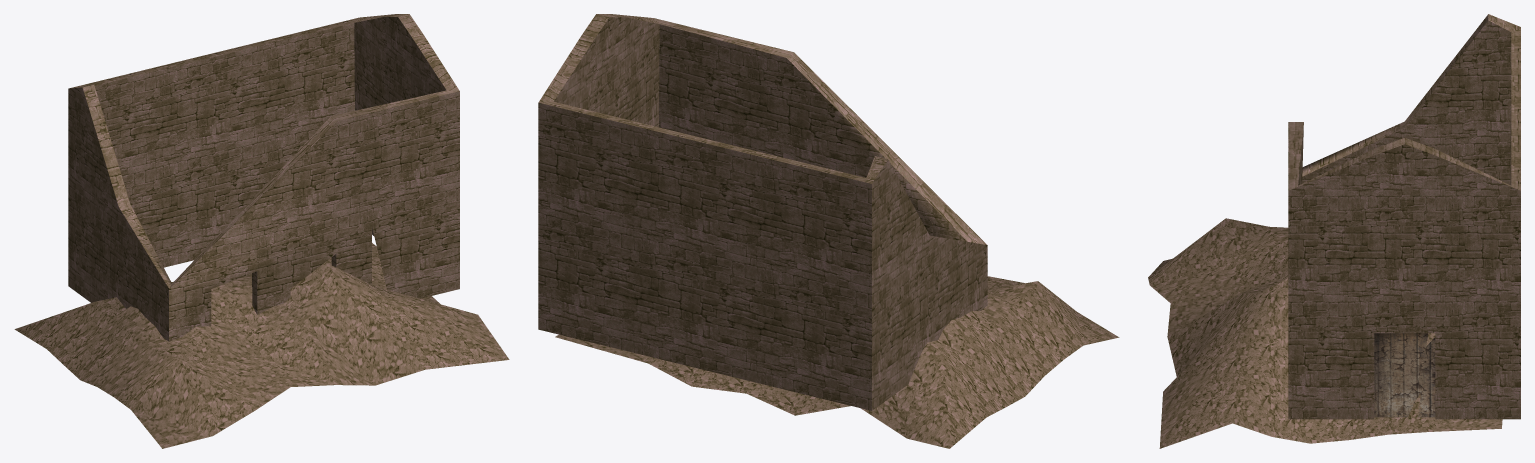
Rendered from old_house1.FBX.
3 renders of one model, left to right at view 1: azimuth 30°, elevation 25°; view 2: azimuth 150°, elevation 25°; view 3: azimuth 270°, elevation 25°, orthographic. The views are drawn at different scales.
Parts seen in each view (by area): view 1: Plane01, Plane02; view 2: Plane01, Plane02; view 3: Plane01, Plane02, Box01.
Boxes of the visible parts, box(x1,y1,x2,y2) form: Plane01: box(68, 14, 459, 341); Plane02: box(14, 243, 509, 448); Plane01: box(538, 14, 987, 410); Plane02: box(555, 276, 1119, 448); Plane01: box(1288, 14, 1520, 419); Plane02: box(1148, 218, 1502, 448); Box01: box(1374, 333, 1435, 417).
Bounding box in the file's own units: 476 × 353 × 379.
